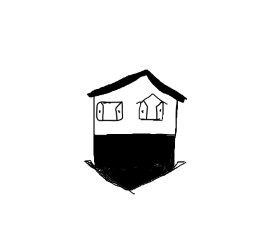open_window: (135, 92, 168, 124), (95, 99, 126, 124)
shaded_roof: (85, 69, 192, 103)
shadow: (81, 131, 183, 197)
small_house: (1, 2, 260, 243)
wall: (90, 93, 180, 136)
